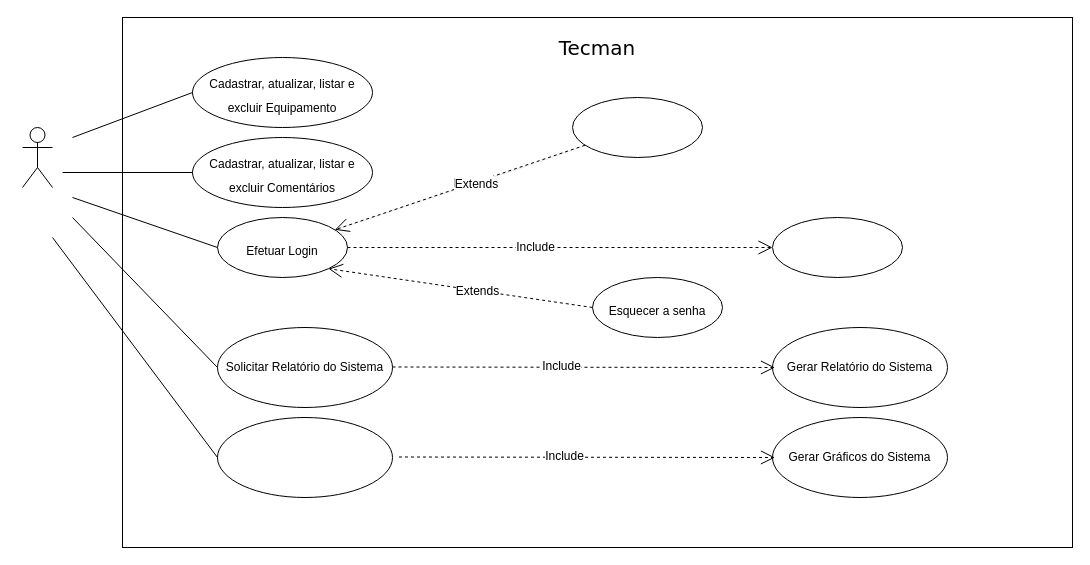
This 1090x565 diagram has some shape labels left out. Each missing label, with the box of its shape:
Cadastro de Usuario: (572, 96, 702, 158)
Solicitar Gráfico do Sistema: (216, 416, 392, 498)
Usuario: (22, 126, 52, 188)
Verificar Senha: (772, 216, 902, 278)
